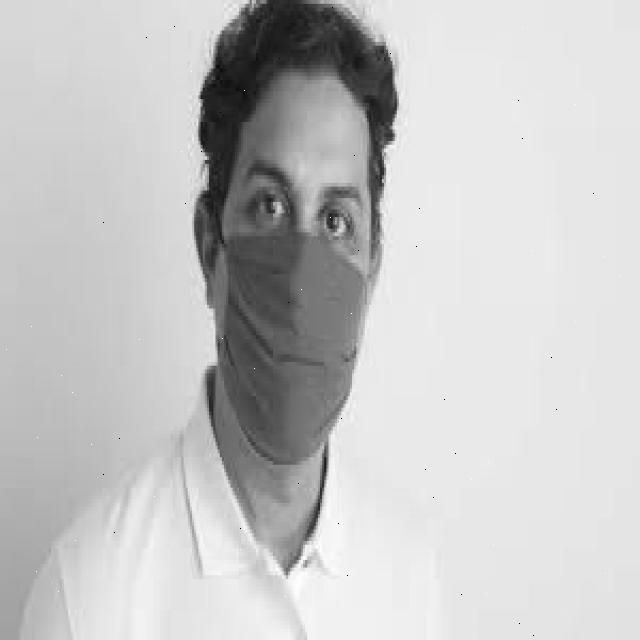fake: (202, 222, 381, 464)
real: (218, 70, 373, 469)
